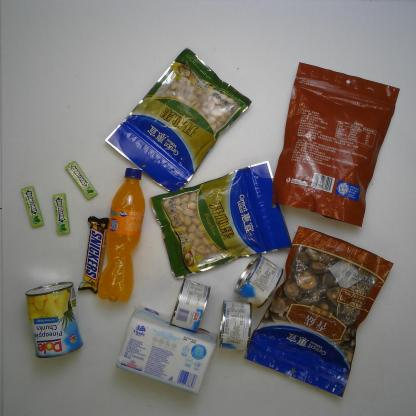Canned Food: (22, 279, 85, 360), (231, 250, 286, 311), (169, 276, 212, 333), (216, 298, 255, 352)
Chocolate: (76, 213, 111, 295)
Dried Food: (242, 221, 395, 398), (269, 60, 403, 228)
Dried Fruit: (103, 46, 254, 192), (147, 158, 295, 282)
Drink: (94, 163, 147, 305)
Gum: (64, 159, 99, 202), (19, 184, 44, 229), (51, 192, 72, 236)
Tissue: (113, 301, 220, 398)
